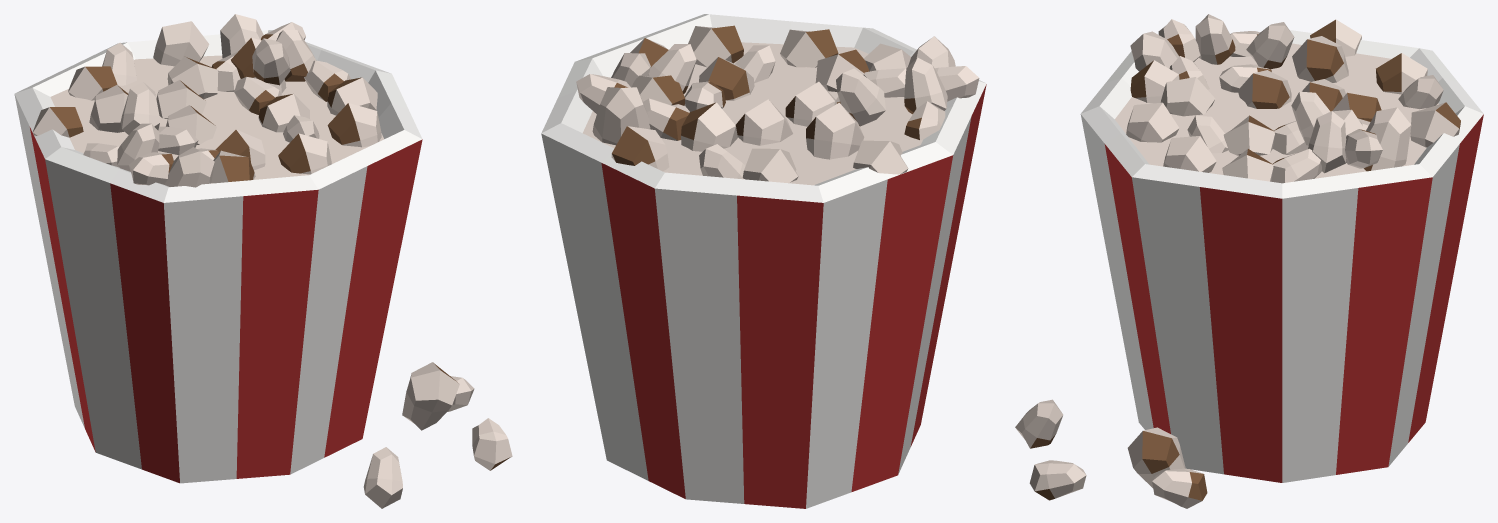
File: Popcorn.fbx
The picture shows the model from 3 angles, left to right: view 1: azimuth 30°, elevation 25°; view 2: azimuth 150°, elevation 25°; view 3: azimuth 270°, elevation 25°; orthographic projection. The views are drawn at different scales.
Parts seen in each view (by area): view 1: Popcorn; view 2: Popcorn; view 3: Popcorn.
Boxes of the visible parts, <box> form: Popcorn: <box>14,14,512,508</box>; Popcorn: <box>541,14,986,508</box>; Popcorn: <box>1015,14,1483,508</box>.
Bounding box in the file's own units: 28.8 × 31.32 × 26.76.
